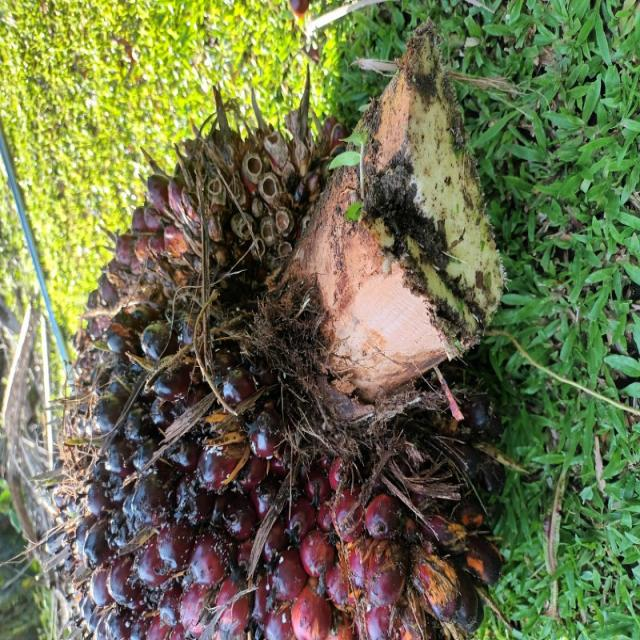fraksi 1: (0, 15, 437, 640)
